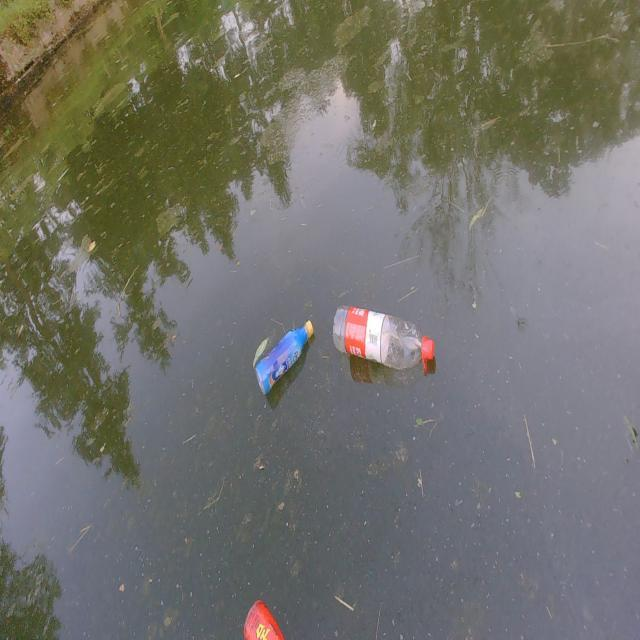bottle: (316, 268, 450, 399), (249, 304, 321, 401), (228, 579, 334, 640)
